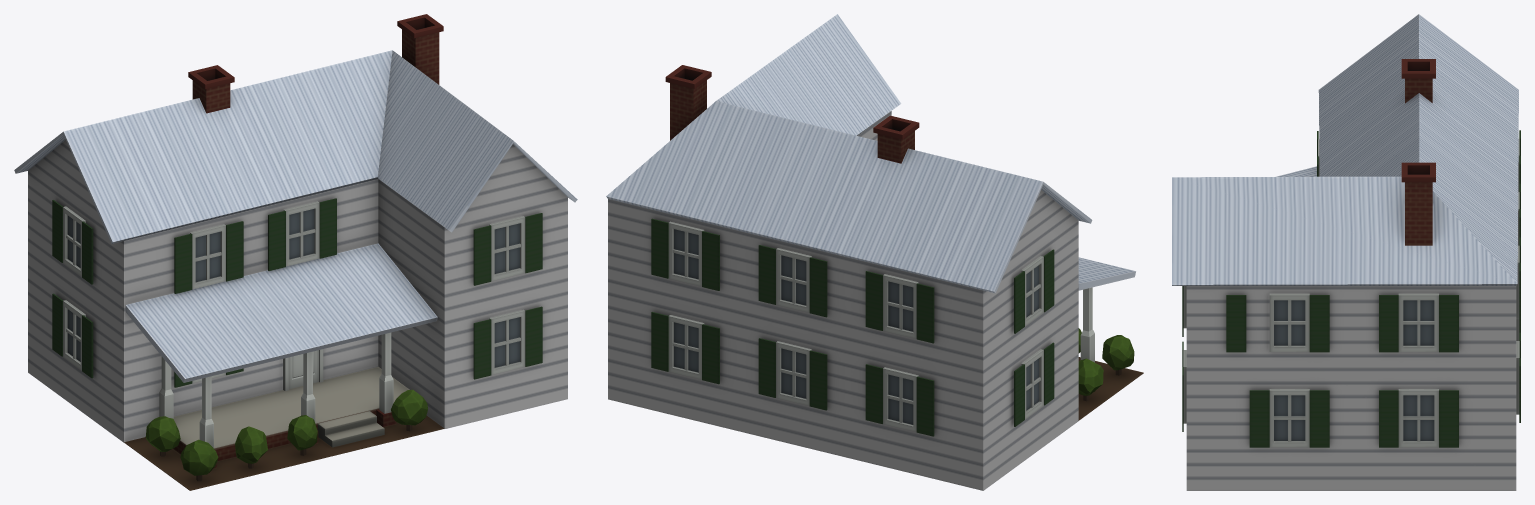
File: farmhouse.glb
3 renders of one model, left to right at view 1: azimuth 30°, elevation 25°; view 2: azimuth 150°, elevation 25°; view 3: azimuth 270°, elevation 25°, orthographic. The views are drawn at different scales.
Parts seen in each view (by area): view 1: FarmHouse_Mesh; view 2: FarmHouse_Mesh; view 3: FarmHouse_Mesh.
Part boxes in pixels (<box>): FarmHouse_Mesh: <box>14,14,577,490</box>; FarmHouse_Mesh: <box>606,14,1143,490</box>; FarmHouse_Mesh: <box>1172,14,1520,490</box>.
Size of the model in its own units: 25.34 by 18.43 by 19.12.
Materials: 1 (1 with a texture image).
